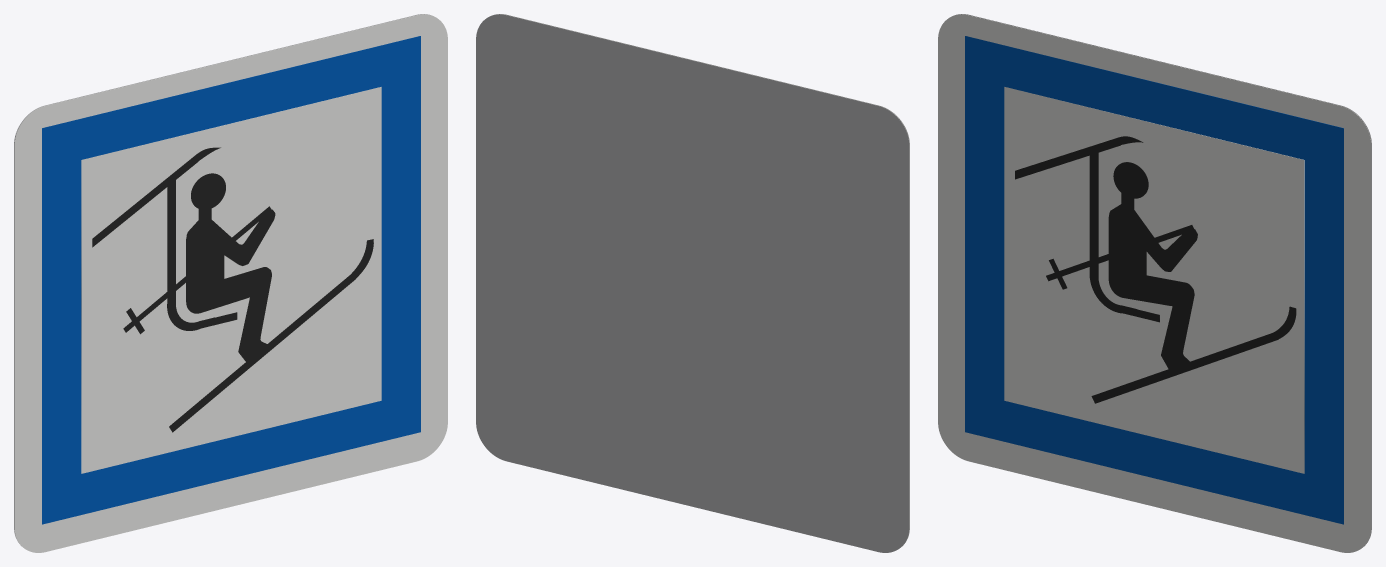
The picture shows the model from 3 angles, left to right: view 1: azimuth 30°, elevation 25°; view 2: azimuth 150°, elevation 25°; view 3: azimuth 330°, elevation 25°; orthographic projection.
Parts seen in each view (by area): view 1: CE20b_p02, CE20b_p01, CE20b_p00, CE20b_p03, CE20b_dos; view 2: CE20b_dos, CE20b_p00; view 3: CE20b_p02, CE20b_p01, CE20b_p00, CE20b_p03, CE20b_dos.
Part boxes in pixels (x1,y1,x2,y2): CE20b_p02: (81,87,381,473); CE20b_p01: (42,36,420,524); CE20b_p00: (14,14,447,552); CE20b_p03: (92,147,373,432); CE20b_dos: (14,14,430,546); CE20b_dos: (476,14,909,552); CE20b_p00: (493,14,909,546); CE20b_p02: (1004,87,1304,473); CE20b_p01: (965,36,1343,524); CE20b_p00: (938,14,1371,552); CE20b_p03: (1015,136,1296,403); CE20b_dos: (955,14,1371,546).
Bounding box in the file's own units: 0.7 × 0.6889 × 0.0031.
